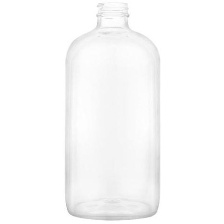bottle: (59, 1, 165, 220)
